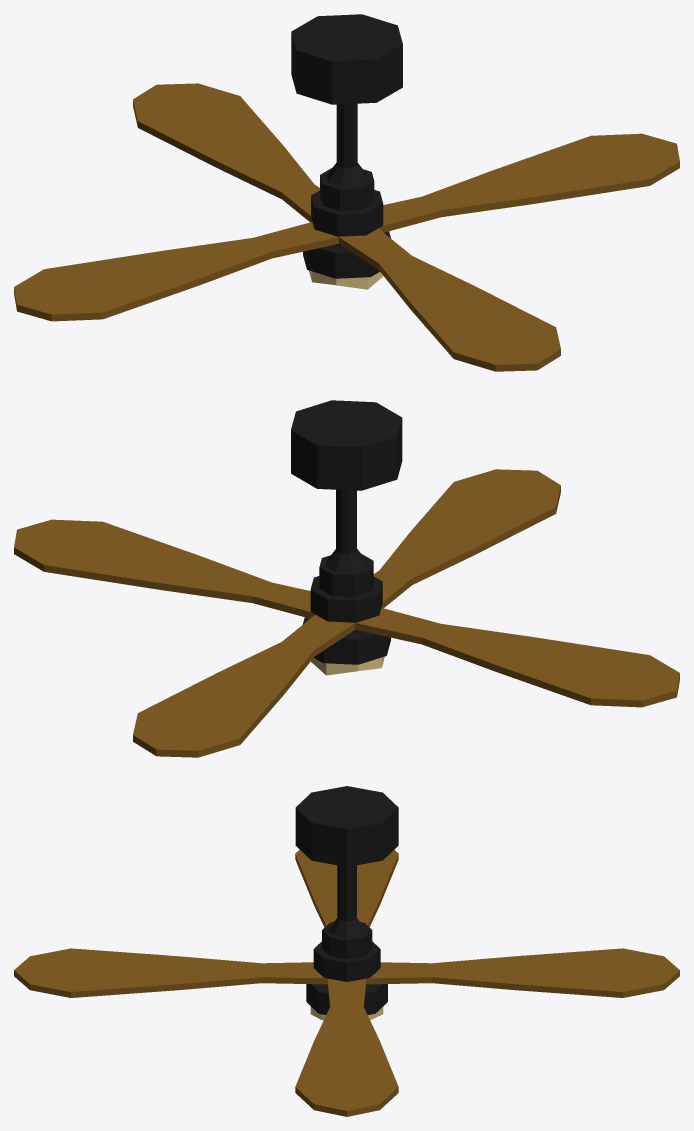
The model's file is Ceiling fan.fbx.
The picture shows the model from 3 angles, top to bottom: view 1: azimuth 30°, elevation 25°; view 2: azimuth 150°, elevation 25°; view 3: azimuth 270°, elevation 25°; orthographic projection. The views are drawn at different scales.
Visible parts, largest first — view 1: Cube.018, Cube.017, Cube.005; view 2: Cube.018, Cube.017, Cube.005; view 3: Cube.017, Cube.005, Cube.018.
Part boxes in pixels (<box>): Cube.018: <box>14,133,679,321</box>; Cube.017: <box>133,83,560,371</box>; Cube.005: <box>291,14,402,289</box>; Cube.018: <box>14,519,679,707</box>; Cube.017: <box>133,469,560,757</box>; Cube.005: <box>291,400,402,675</box>; Cube.017: <box>14,948,679,997</box>; Cube.005: <box>295,786,398,1020</box>; Cube.018: <box>295,849,398,1116</box>.
Bounding box in the file's own units: 116 × 41.57 × 116.
